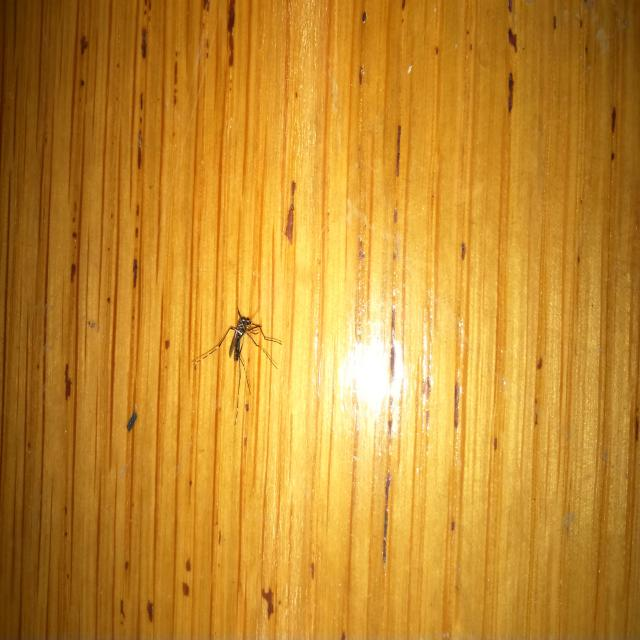albopictus: (191, 290, 285, 424)
